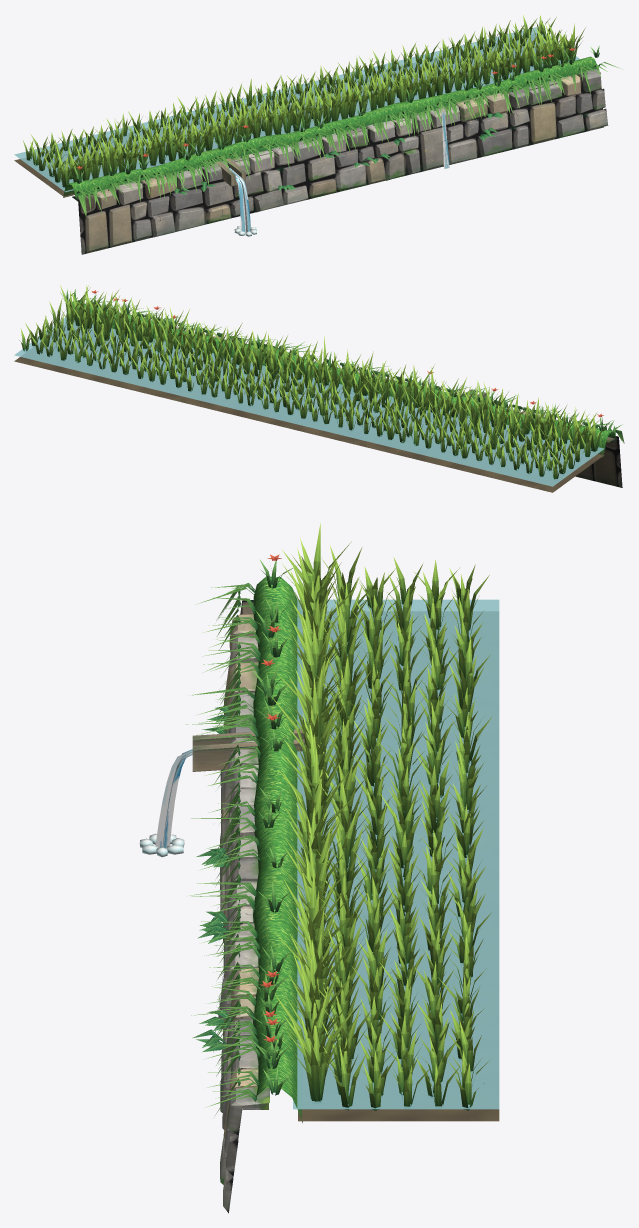
File: terrace_straight_young.glb
3 renders of one model, top to bottom at view 1: azimuth 30°, elevation 25°; view 2: azimuth 150°, elevation 25°; view 3: azimuth 270°, elevation 25°, orthographic. The views are drawn at different scales.
Visible parts, largest first — view 1: terrace_straight_young_plants, terrace_straight_young_wall, terrace_straight_young_dike, terrace_straight_young_water, terrace_straight_young_spout_fall, terrace_straight_young_spout; view 2: terrace_straight_young_plants, terrace_straight_young_water, terrace_straight_young_dike, terrace_straight_young_wall; view 3: terrace_straight_young_plants, terrace_straight_young_water, terrace_straight_young_dike, terrace_straight_young_wall, terrace_straight_young_spout, terrace_straight_young_spout_fall.
Boxes of the visible parts, x1=… form: terrace_straight_young_plants: x1=23, y1=15, x2=622, y2=217; terrace_straight_young_wall: x1=72, y1=69, x2=608, y2=254; terrace_straight_young_dike: x1=14, y1=36, x2=597, y2=197; terrace_straight_young_water: x1=14, y1=27, x2=579, y2=192; terrace_straight_young_spout_fall: x1=229, y1=168, x2=250, y2=232; terrace_straight_young_spout: x1=205, y1=148, x2=245, y2=186; terrace_straight_young_plants: x1=19, y1=285, x2=624, y2=479; terrace_straight_young_water: x1=14, y1=317, x2=605, y2=486; terrace_straight_young_dike: x1=14, y1=301, x2=615, y2=492; terrace_straight_young_wall: x1=85, y1=303, x2=622, y2=487; terrace_straight_young_plants: x1=186, y1=523, x2=491, y2=1115; terrace_straight_young_water: x1=293, y1=599, x2=499, y2=1109; terrace_straight_young_dike: x1=253, y1=576, x2=499, y2=1123; terrace_straight_young_wall: x1=218, y1=600, x2=269, y2=1213; terrace_straight_young_spout: x1=192, y1=729, x2=304, y2=771; terrace_straight_young_spout_fall: x1=155, y1=749, x2=192, y2=848.
Bounding box in the file's own units: 12.6 × 1.99 × 3.57.
6 materials, 5 textured.
